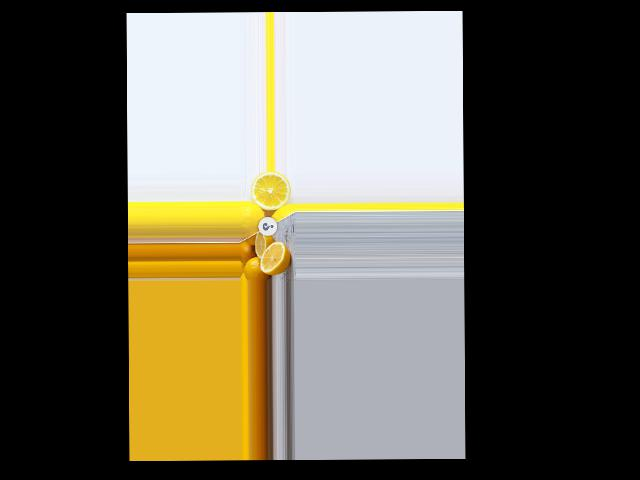lemon: (240, 199, 266, 238)
